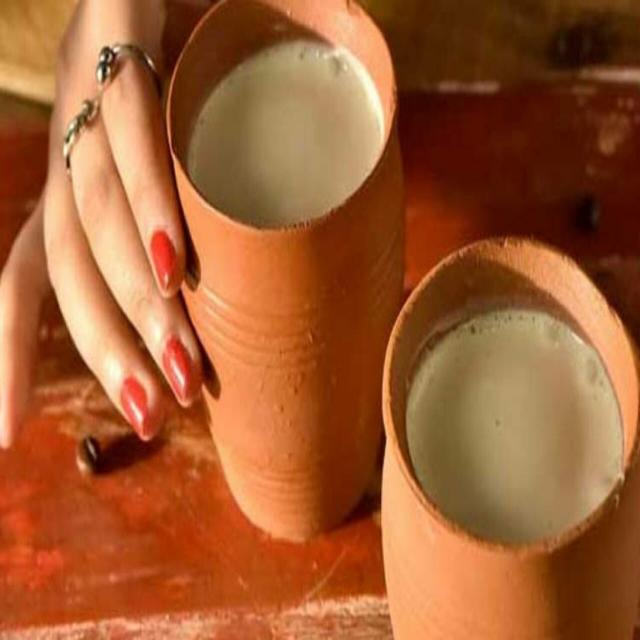Chai: (405, 321, 626, 548), (190, 28, 384, 244)
